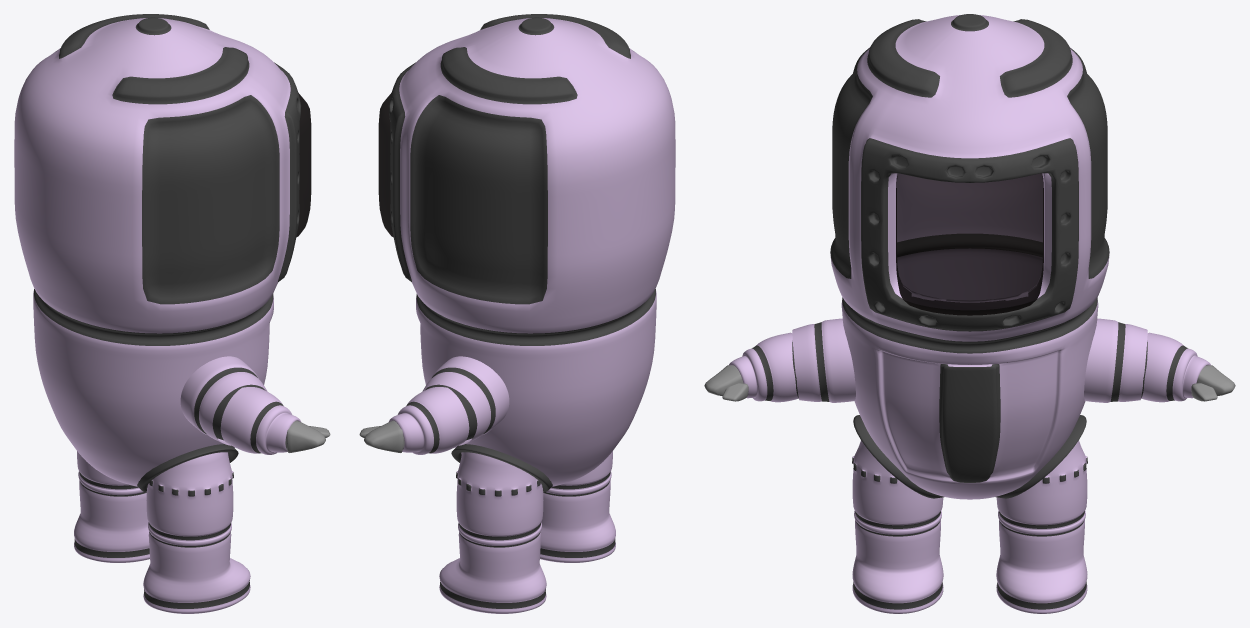
Rendered from cosmonauts_toy.glb.
3 views of the same model, side by side, from view 1: azimuth 30°, elevation 25°; view 2: azimuth 150°, elevation 25°; view 3: azimuth 270°, elevation 25° (orthographic). The views are drawn at different scales.
Visible parts, largest first — view 1: Circle, food.001, ruki.001, food, Circle.001; view 2: Circle, food, ruki, food.001, Circle.001; view 3: Circle, food, food.001, ruki, ruki.001, Circle.001.
Part boxes in pixels (box(x1,y1,x2,y2)): Circle: box(14, 14, 311, 486); food.001: box(143, 452, 250, 613); ruki.001: box(180, 356, 330, 454); food: box(74, 451, 149, 562); Circle.001: box(137, 444, 238, 492); Circle: box(378, 14, 675, 486); food: box(439, 452, 546, 613); ruki: box(359, 356, 509, 454); food.001: box(540, 451, 615, 562); Circle.001: box(451, 444, 552, 492); Circle: box(830, 14, 1109, 499); food: box(996, 440, 1087, 613); food.001: box(852, 440, 943, 613); ruki: box(1084, 318, 1235, 402); ruki.001: box(704, 318, 855, 402); Circle.001: box(853, 415, 1086, 498).
Bounding box in the file's own units: 1.07 × 2.11 × 1.79.
